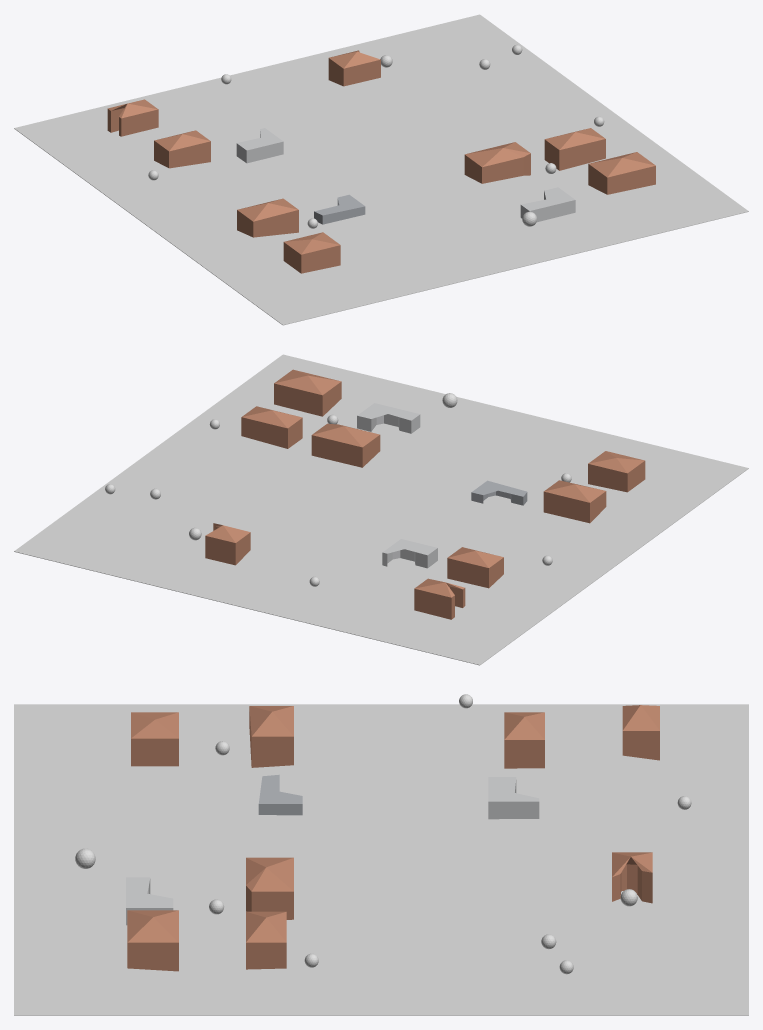
File: scene_edf77048-8bb1-4af1-a616-38d773c53bac.glb
3 views of the same model, one above another, from view 1: azimuth 30°, elevation 25°; view 2: azimuth 150°, elevation 25°; view 3: azimuth 270°, elevation 25° (orthographic). The views are drawn at different scales.
Parts seen in each view (by area): view 1: Ground_Base, B010, B007, B008, B006, B009, B003, B002, B001, B011, B004, B005; view 2: Ground_Base, B010, B007, B006, B008, B009, B003, B001, B002, B011, B004, B005; view 3: Ground_Base, B010, B007, B006, B009, B008, B003, B001, B002, B004, B005, B011.
Part boxes in pixels (x1,y1,x2,y2): Ground_Base: [14, 14, 748, 325]; B010: [588, 152, 655, 194]; B007: [464, 142, 530, 183]; B008: [544, 128, 605, 170]; B006: [237, 198, 298, 237]; B009: [283, 232, 340, 273]; B003: [154, 130, 210, 168]; B002: [328, 50, 380, 86]; B001: [107, 99, 158, 136]; B011: [520, 187, 575, 222]; B004: [236, 128, 283, 163]; B005: [314, 194, 365, 224]; Ground_Base: [14, 354, 748, 665]; B010: [274, 369, 341, 416]; B007: [311, 423, 380, 467]; B006: [543, 480, 606, 523]; B008: [241, 406, 302, 448]; B009: [588, 451, 645, 492]; B003: [447, 547, 503, 588]; B001: [414, 578, 465, 619]; B002: [205, 523, 250, 565]; B011: [357, 403, 420, 433]; B004: [382, 539, 437, 568]; B005: [471, 480, 527, 505]; Ground_Base: [14, 704, 748, 1015]; B010: [127, 910, 178, 971]; B007: [246, 857, 293, 919]; B006: [249, 706, 293, 767]; B009: [131, 712, 178, 766]; B008: [246, 911, 286, 969]; B003: [504, 712, 544, 768]; B001: [622, 705, 659, 760]; B002: [612, 852, 652, 903]; B004: [488, 777, 539, 819]; B005: [258, 774, 302, 815]; B011: [126, 877, 173, 925].
Bounding box in the file's own units: 410 × 30.31 × 410.
